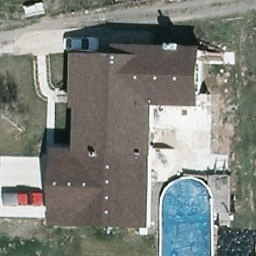car: (63, 35, 99, 49)
pickup: (2, 191, 44, 208)
